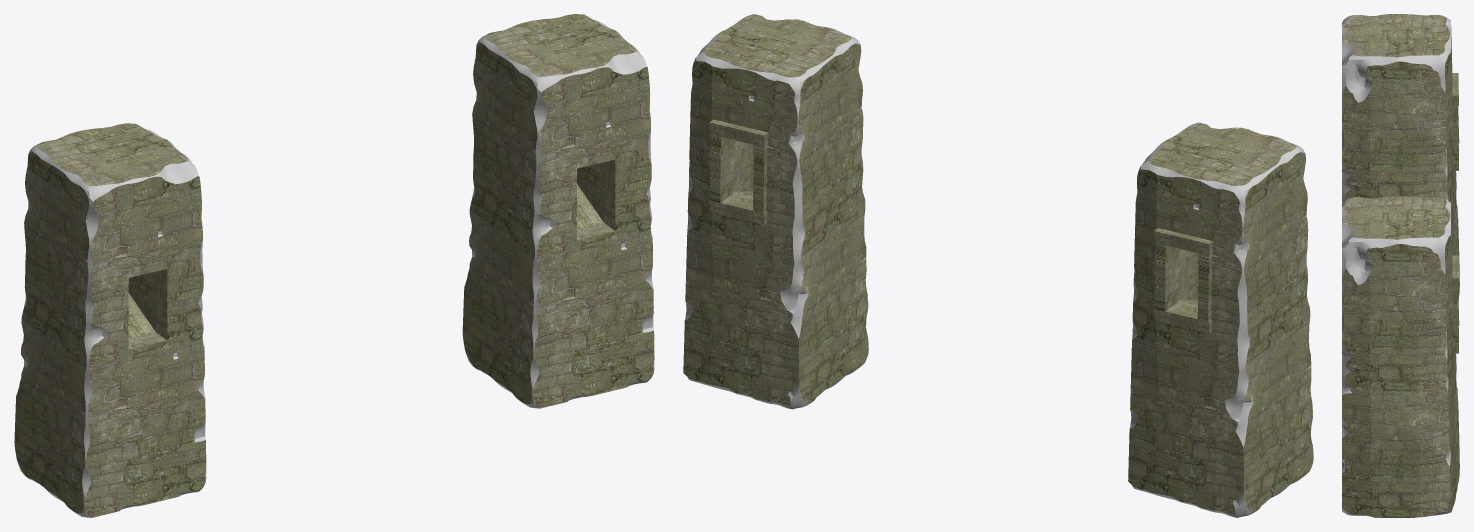
File: SM_Chateaux_06_10.001.fbx
3 renders of one model, left to right at view 1: azimuth 30°, elevation 25°; view 2: azimuth 150°, elevation 25°; view 3: azimuth 270°, elevation 25°, orthographic. The views are drawn at different scales.
Visible parts, largest first — view 1: SM_Chateaux_06_10.001; view 2: SM_Chateaux_06_10.001; view 3: SM_Chateaux_06_10.001.
Part boxes in pixels (x1,y1,x2,y2): SM_Chateaux_06_10.001: (14,14,654,517); SM_Chateaux_06_10.001: (683,14,1313,517); SM_Chateaux_06_10.001: (1342,14,1459,517).
Size of the model in its own units: 3275 by 1768 by 691.
